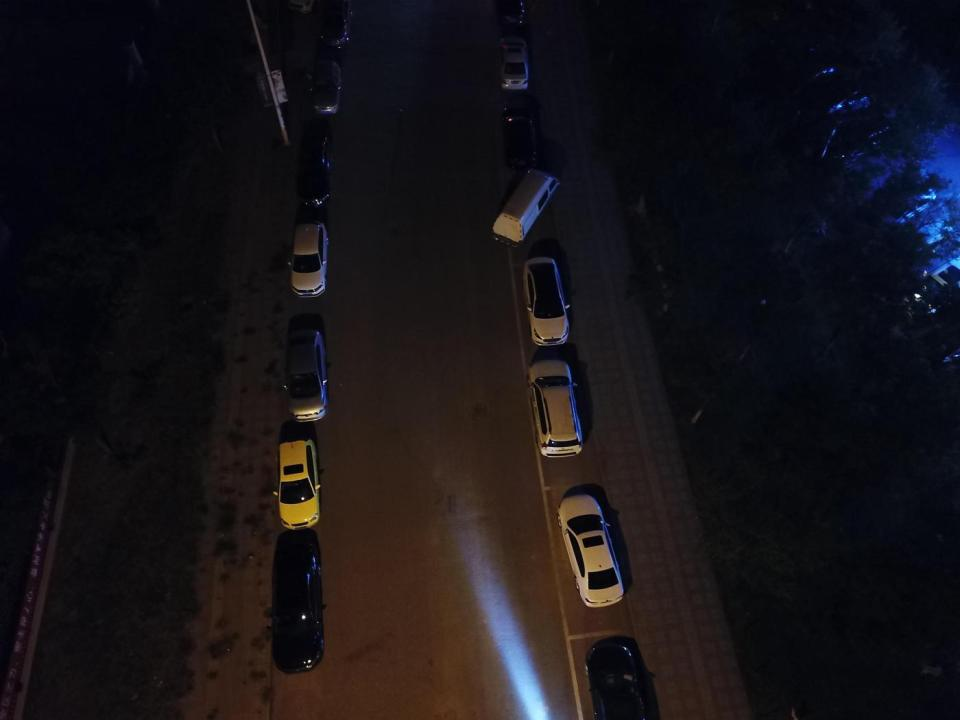car: (556, 494, 624, 608), (266, 543, 324, 674), (526, 358, 583, 458), (584, 641, 649, 720), (273, 437, 321, 531), (522, 256, 571, 346), (283, 330, 329, 422), (286, 221, 330, 298), (294, 135, 332, 208), (501, 106, 538, 170), (317, 1, 354, 49), (309, 59, 341, 114), (498, 36, 528, 92), (496, 0, 528, 32)
van: (492, 168, 562, 248)
